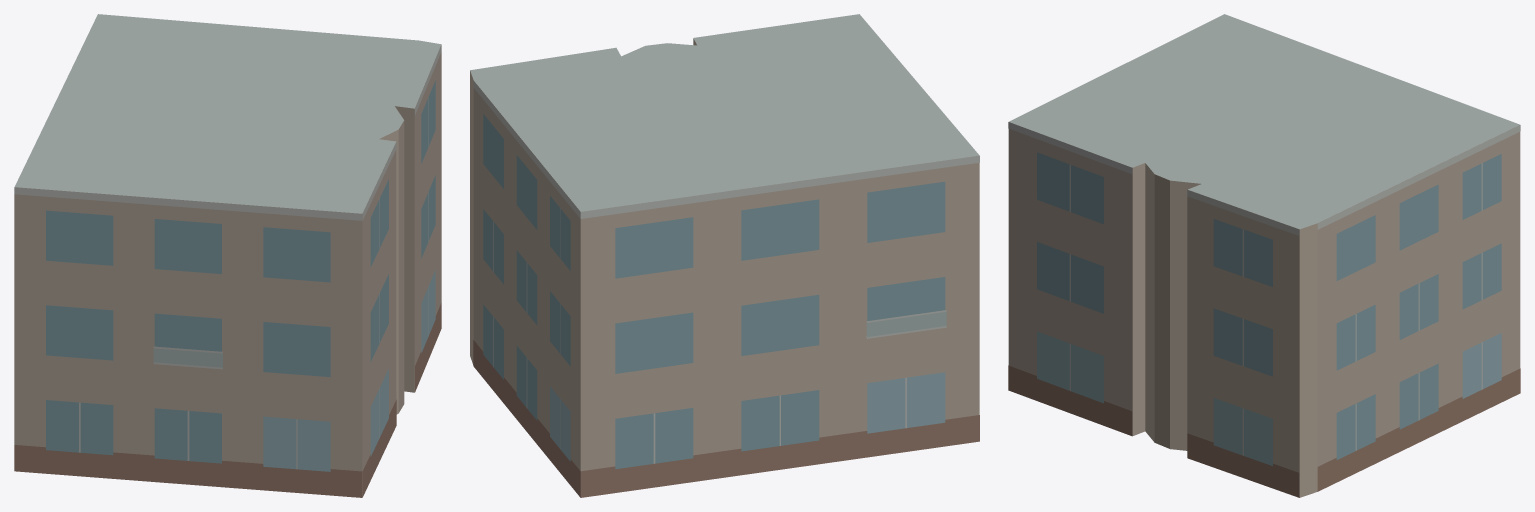
The model's file is survey-upis-32624888.glb.
The picture shows the model from 3 angles, left to right: view 1: azimuth 30°, elevation 25°; view 2: azimuth 150°, elevation 25°; view 3: azimuth 270°, elevation 25°; orthographic projection. The views are drawn at different scales.
Parts seen in each view (by area): view 1: survey-upis-32624888.tmp; view 2: survey-upis-32624888.tmp; view 3: survey-upis-32624888.tmp.
Boxes of the visible parts, x1,y1,x2,y2 form: survey-upis-32624888.tmp: (14, 14, 441, 497); survey-upis-32624888.tmp: (470, 14, 979, 497); survey-upis-32624888.tmp: (1008, 14, 1520, 497).
Size of the model in its own units: 16.86 by 9.8 by 16.94.
